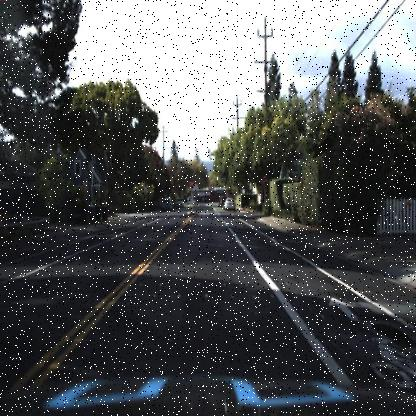car: (161, 194, 174, 214), (223, 197, 237, 211)
